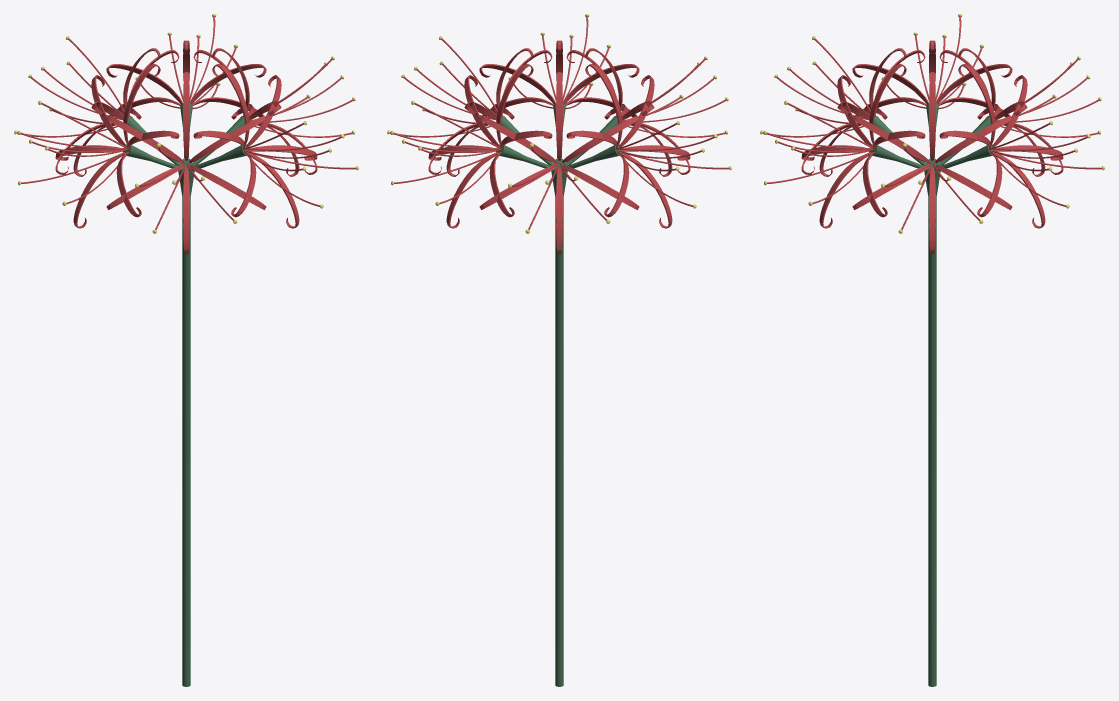
Rendered from Red spider lily.FBX.
3 renders of one model, left to right at view 1: azimuth 30°, elevation 25°; view 2: azimuth 150°, elevation 25°; view 3: azimuth 270°, elevation 25°, orthographic.
Parts seen in each view (by area): view 1: Cylinder001, Arc020, Arc013, Arc027, Arc041, Arc006, Arc034; view 2: Cylinder001, Arc034, Arc027, Arc041, Arc013, Arc020, Arc006; view 3: Cylinder001, Arc006, Arc041, Arc013, Arc027, Arc034, Arc020.
Boxes of the visible parts, bbox=[...] form: Cylinder001: bbox=[178, 171, 194, 686]; Arc020: bbox=[106, 72, 266, 253]; Arc013: bbox=[193, 64, 317, 228]; Arc027: bbox=[55, 64, 179, 228]; Arc041: bbox=[106, 40, 266, 125]; Arc006: bbox=[193, 48, 317, 176]; Arc034: bbox=[55, 48, 179, 176]; Cylinder001: bbox=[551, 171, 567, 686]; Arc034: bbox=[479, 72, 639, 253]; Arc027: bbox=[566, 64, 690, 228]; Arc041: bbox=[428, 64, 552, 228]; Arc013: bbox=[479, 40, 639, 125]; Arc020: bbox=[566, 48, 690, 176]; Arc006: bbox=[428, 48, 552, 176]; Cylinder001: bbox=[924, 171, 940, 686]; Arc006: bbox=[852, 72, 1012, 253]; Arc041: bbox=[939, 64, 1063, 228]; Arc013: bbox=[801, 64, 925, 228]; Arc027: bbox=[852, 40, 1012, 125]; Arc034: bbox=[939, 48, 1063, 176]; Arc020: bbox=[801, 48, 925, 176].
Size of the model in its own units: 52.47 by 103 by 51.38.
